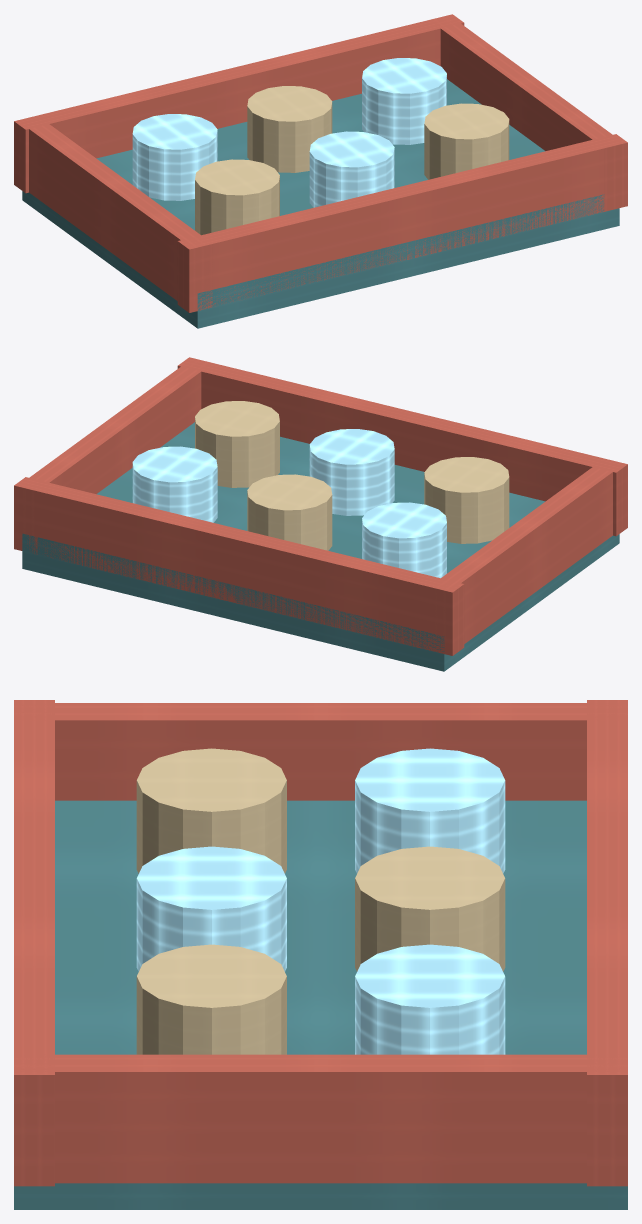
The model's file is atlas100-s073-a03.glb.
3 views of the same model, one above another, from view 1: azimuth 30°, elevation 25°; view 2: azimuth 150°, elevation 25°; view 3: azimuth 270°, elevation 25° (orthographic). The views are drawn at different scales.
Visible parts, largest first — view 1: atlas100-s073-a03:part-002, atlas100-s073-a03:part-000, atlas100-s073-a03:part-001, atlas100-s073-a03:part-003, atlas100-s073-a03:part-004, atlas100-s073-a03:part-005, atlas100-s073-a03:part-006, atlas100-s073-a03:part-007, atlas100-s073-a03:part-009, atlas100-s073-a03:part-010, atlas100-s073-a03:part-008; view 2: atlas100-s073-a03:part-001, atlas100-s073-a03:part-000, atlas100-s073-a03:part-002, atlas100-s073-a03:part-003, atlas100-s073-a03:part-004, atlas100-s073-a03:part-008, atlas100-s073-a03:part-009, atlas100-s073-a03:part-010, atlas100-s073-a03:part-006, atlas100-s073-a03:part-007, atlas100-s073-a03:part-005; view 3: atlas100-s073-a03:part-000, atlas100-s073-a03:part-004, atlas100-s073-a03:part-003, atlas100-s073-a03:part-001, atlas100-s073-a03:part-002, atlas100-s073-a03:part-007, atlas100-s073-a03:part-010, atlas100-s073-a03:part-006, atlas100-s073-a03:part-009, atlas100-s073-a03:part-005, atlas100-s073-a03:part-008.
Part boxes in pixels (box(x1,y1,x2,y2)): atlas100-s073-a03:part-002: box(177, 134, 627, 312); atlas100-s073-a03:part-000: box(22, 79, 619, 328); atlas100-s073-a03:part-001: box(14, 14, 464, 193); atlas100-s073-a03:part-003: box(29, 124, 212, 311); atlas100-s073-a03:part-004: box(430, 15, 624, 211); atlas100-s073-a03:part-005: box(132, 114, 217, 200); atlas100-s073-a03:part-006: box(247, 86, 332, 172); atlas100-s073-a03:part-007: box(362, 58, 446, 144); atlas100-s073-a03:part-009: box(309, 131, 394, 207); atlas100-s073-a03:part-010: box(424, 103, 509, 179); atlas100-s073-a03:part-008: box(195, 159, 279, 235); atlas100-s073-a03:part-001: box(14, 477, 464, 655); atlas100-s073-a03:part-000: box(22, 422, 619, 671); atlas100-s073-a03:part-002: box(177, 357, 627, 536); atlas100-s073-a03:part-003: box(429, 467, 612, 654); atlas100-s073-a03:part-004: box(17, 358, 211, 554); atlas100-s073-a03:part-008: box(424, 457, 509, 543); atlas100-s073-a03:part-009: box(309, 429, 394, 515); atlas100-s073-a03:part-010: box(195, 401, 279, 487); atlas100-s073-a03:part-006: box(247, 474, 332, 550); atlas100-s073-a03:part-007: box(132, 446, 217, 522); atlas100-s073-a03:part-005: box(362, 502, 446, 578); atlas100-s073-a03:part-000: box(14, 800, 627, 1209); atlas100-s073-a03:part-004: box(14, 1054, 627, 1183); atlas100-s073-a03:part-003: box(14, 703, 627, 800); atlas100-s073-a03:part-001: box(587, 700, 627, 1186); atlas100-s073-a03:part-002: box(14, 700, 54, 1186); atlas100-s073-a03:part-007: box(355, 944, 505, 1054); atlas100-s073-a03:part-010: box(136, 944, 286, 1054); atlas100-s073-a03:part-006: box(355, 846, 505, 971); atlas100-s073-a03:part-009: box(136, 846, 286, 971); atlas100-s073-a03:part-005: box(355, 748, 505, 873); atlas100-s073-a03:part-008: box(136, 748, 286, 873).
Size of the model in its own units: 1.36 by 0.2563 by 0.9414.
4 materials, 4 textured.
